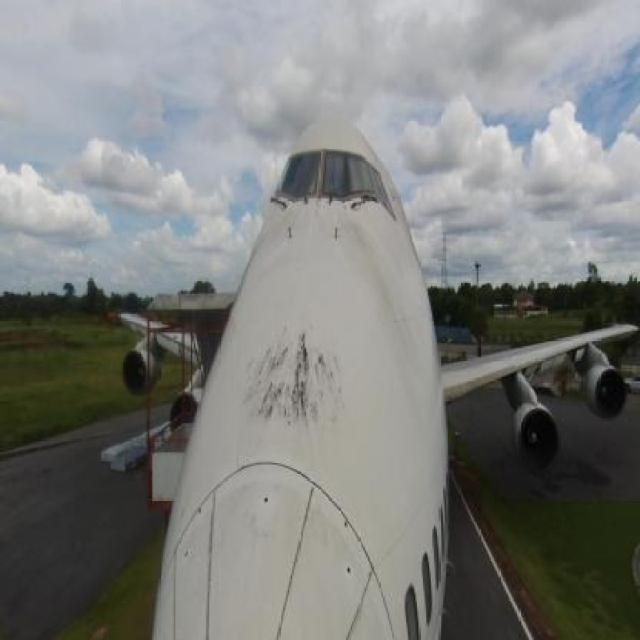Rust: (239, 330, 367, 453), (347, 227, 419, 396), (252, 476, 286, 521)
